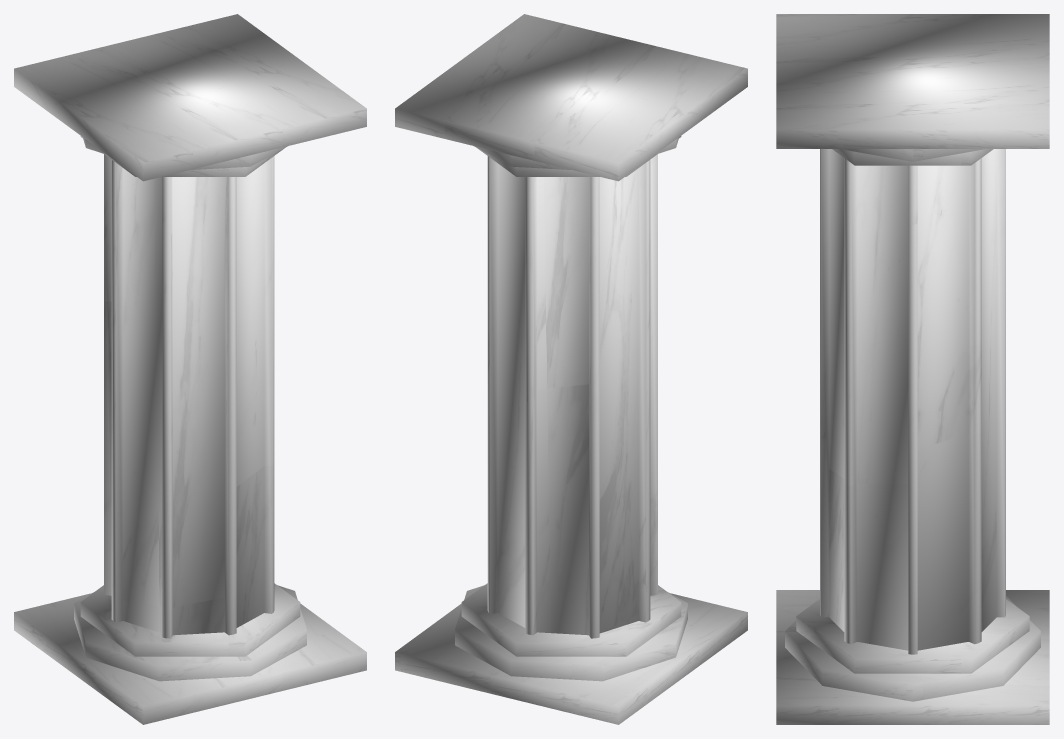
File: GreekPillar3.fbx
The picture shows the model from 3 angles, left to right: view 1: azimuth 30°, elevation 25°; view 2: azimuth 150°, elevation 25°; view 3: azimuth 270°, elevation 25°; orthographic projection. The views are drawn at different scales.
Parts seen in each view (by area): view 1: Cylinder.002; view 2: Cylinder.002; view 3: Cylinder.002.
Part boxes in pixels (<box>): Cylinder.002: <box>14,14,366,724</box>; Cylinder.002: <box>395,14,747,724</box>; Cylinder.002: <box>776,14,1049,724</box>.
Bounding box in the file's own units: 320 × 767 × 320.
